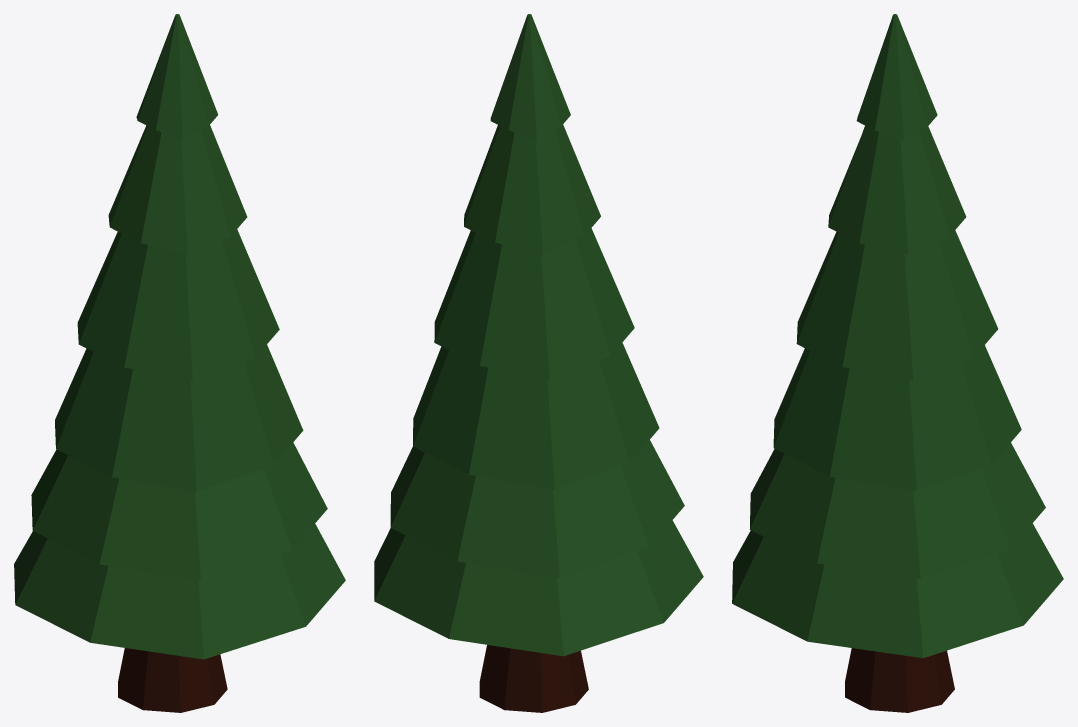
Rendered from lowpolytree.obj.
3 views of the same model, side by side, from view 1: azimuth 30°, elevation 25°; view 2: azimuth 150°, elevation 25°; view 3: azimuth 270°, elevation 25° (orthographic).
Parts seen in each view (by area): view 1: Cylinder; view 2: Cylinder; view 3: Cylinder.
Boxes of the visible parts, x1,y1,x2,y2 form: Cylinder: (14, 14, 345, 712); Cylinder: (374, 14, 703, 712); Cylinder: (732, 14, 1063, 712).
Size of the model in its own units: 2.31 by 5.12 by 2.28.
